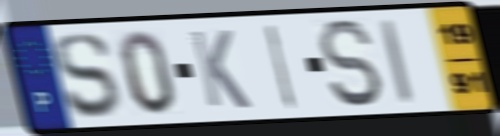0: (117, 27, 179, 119)
I: (377, 16, 417, 107), (263, 21, 299, 112)
K: (186, 28, 254, 112)
S: (314, 17, 387, 111), (51, 30, 122, 121)
